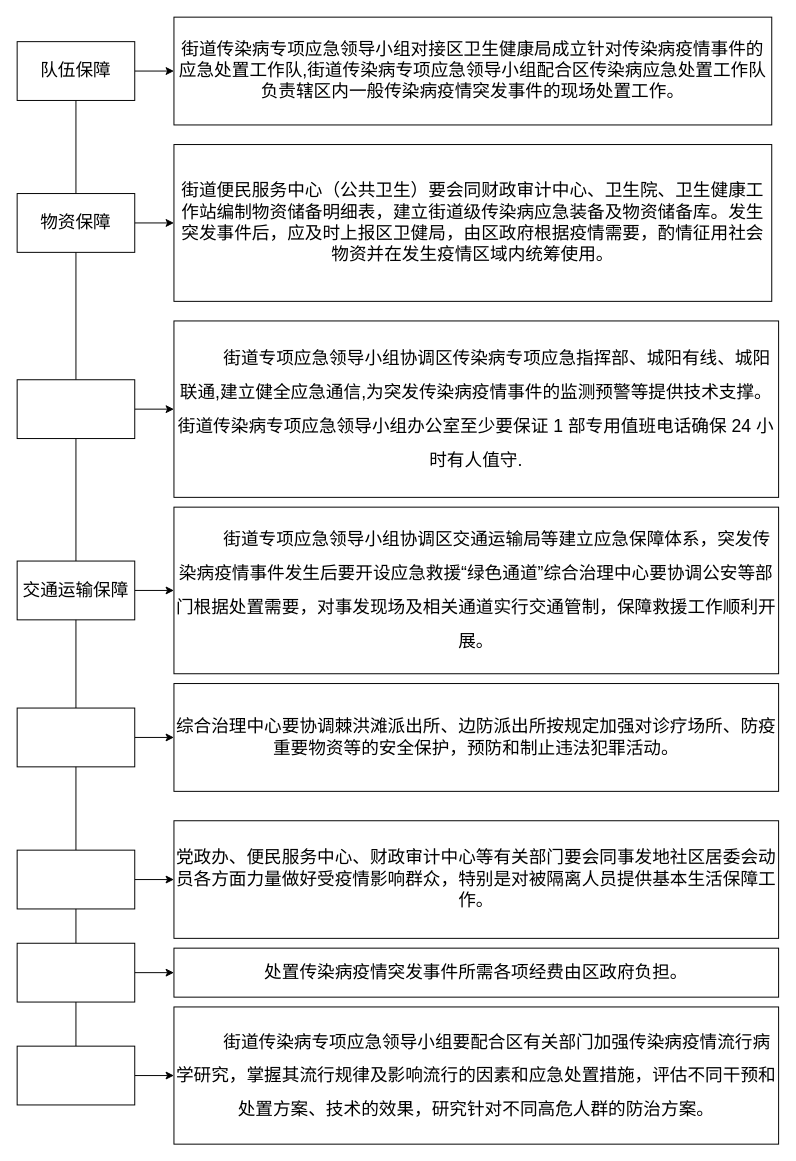
Image size: 796x1161. Some labels were removed from this diagram. The centre of each missing label's shape, as x and y in pixels:
治安保障: the point at 75,737
生活保障: the point at 75,879
科研保障: the point at 75,1075
经费保障: the point at 75,972
通信保障: the point at 75,409
